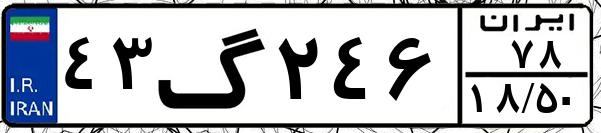0: (560, 70, 590, 125)
1: (470, 70, 495, 125)
2: (270, 28, 330, 110)
3: (110, 28, 156, 98)
4: (330, 28, 385, 110), (57, 26, 110, 100)
5: (535, 70, 560, 125)
6: (385, 28, 445, 110)
7: (508, 27, 537, 80)
8: (537, 27, 568, 80), (495, 70, 520, 125)
گ: (156, 12, 270, 120)
